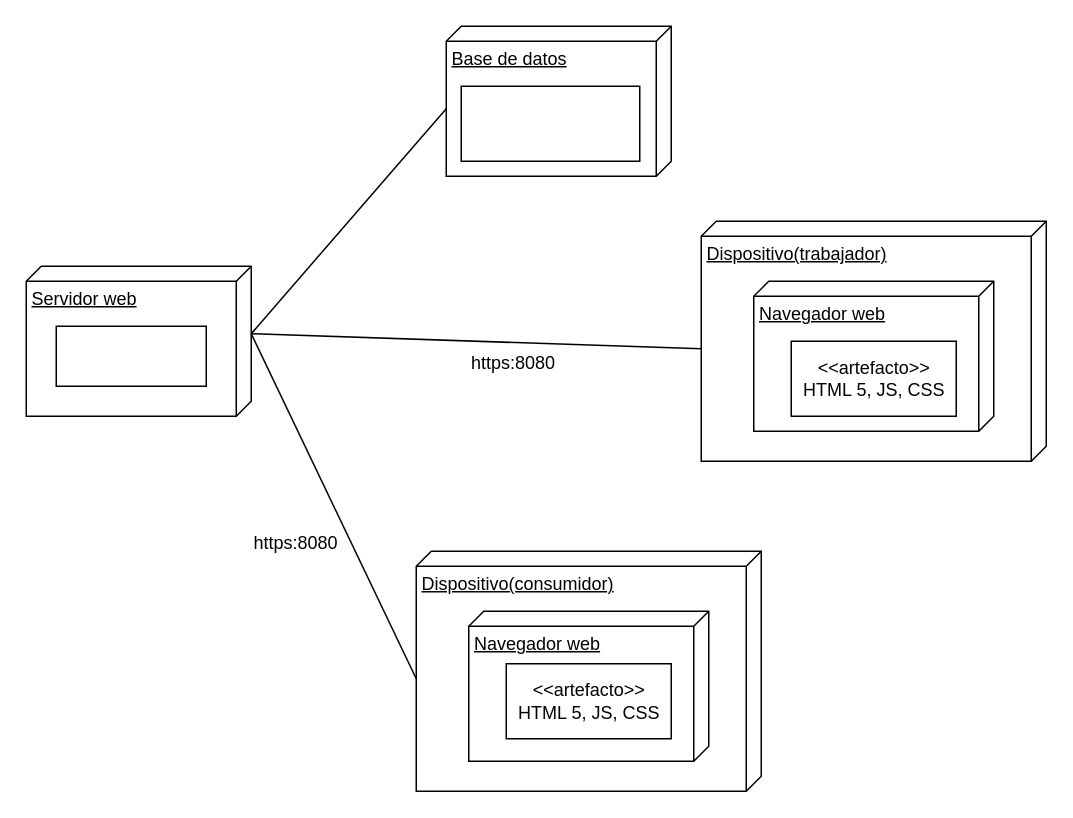
The diagram is 1073 pixels wide and 818 high, and some of its shapes have lost their labels. Each missing label, with the centre of its shape:
"<<artefacto>> BD con MySQL" belongs at (550,123).
"<<artefacto>> Sitio web" belongs at (130,355).
